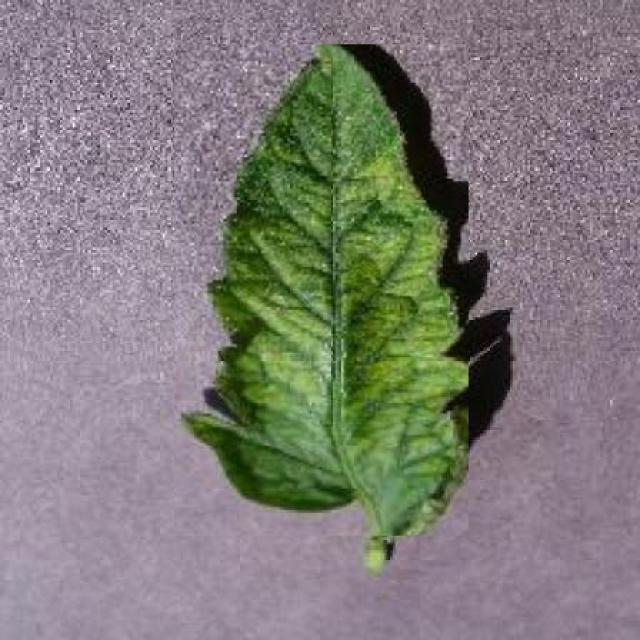Mosaic Virus: (174, 45, 469, 536)
